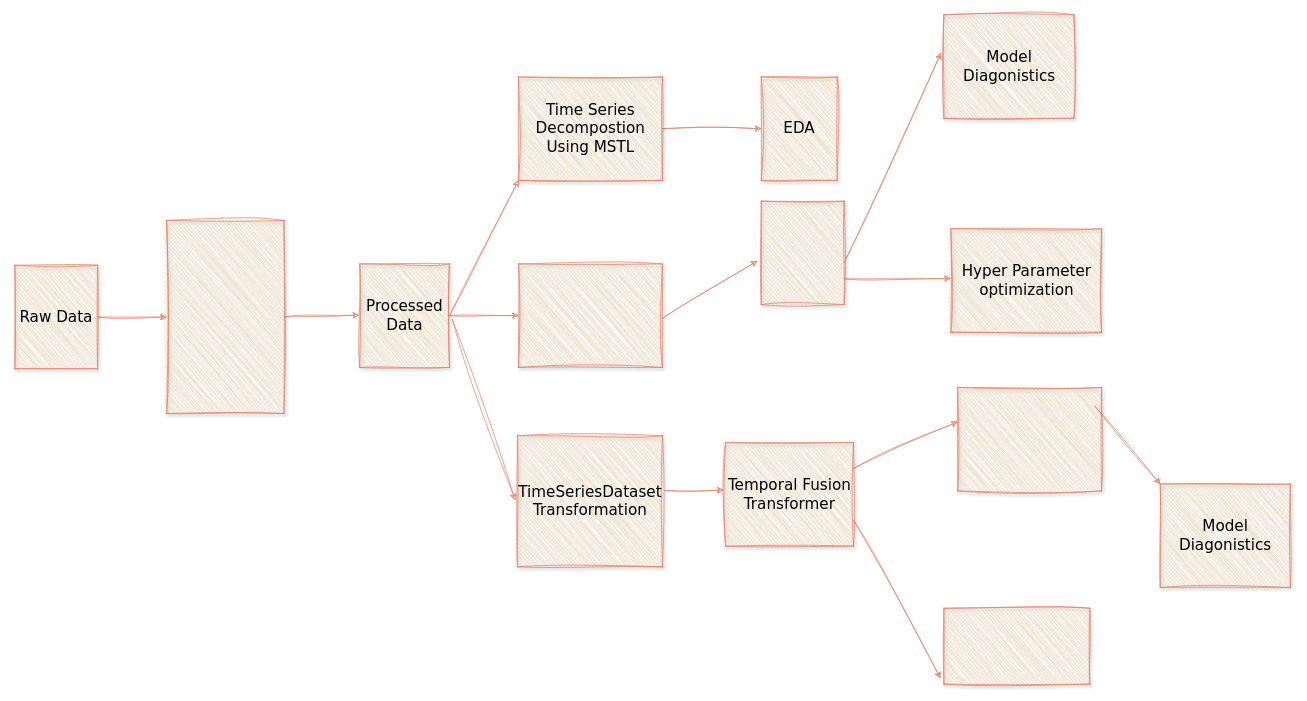
This 1307x701 diagram has some shape labels left out. The shapes that lost their labels are listed below. From the top down, each one's centre as x and y in pixels, then its label:
At point (803, 253): "LSTM".
At point (225, 317): "Pre-Processing".
At point (591, 316): "Tensor Batch Transformation".
At point (1030, 440): "EarlyStopping".
At point (1017, 647): "Hyperparameter Tuning".
